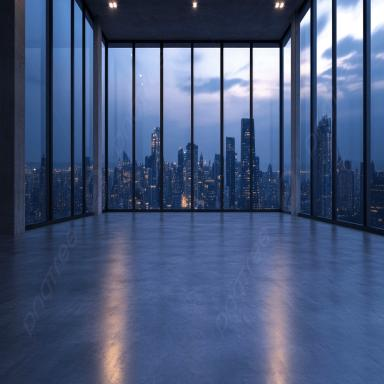glass_panel: (193, 45, 221, 206), (25, 2, 45, 225), (253, 45, 280, 208), (223, 47, 250, 208), (164, 47, 190, 205), (136, 46, 161, 206), (109, 45, 133, 208), (53, 1, 70, 220), (317, 3, 333, 218), (369, 1, 384, 229), (298, 5, 310, 213), (82, 12, 93, 210), (93, 30, 103, 210), (283, 31, 293, 209), (284, 27, 292, 209)
